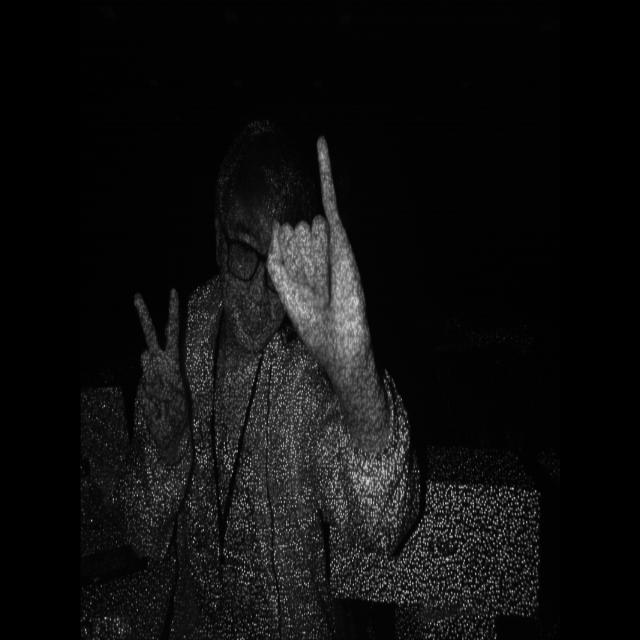I: (260, 123, 373, 364)
